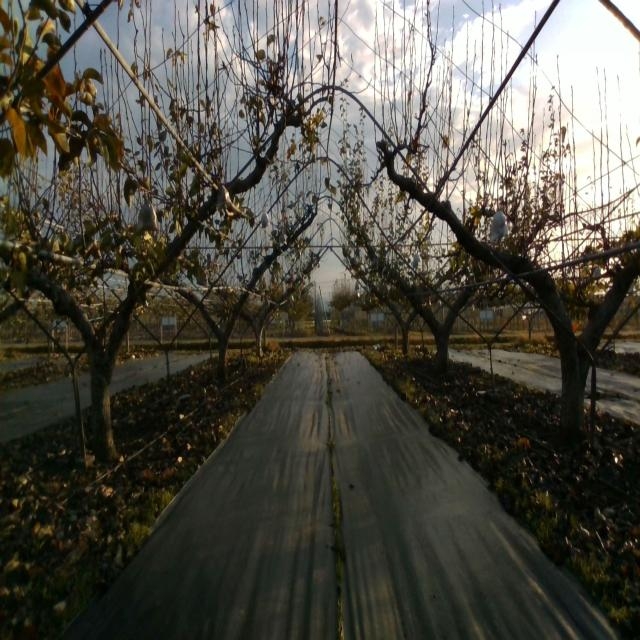pearbags: (136, 194, 160, 236), (489, 206, 510, 244), (216, 183, 232, 210)
